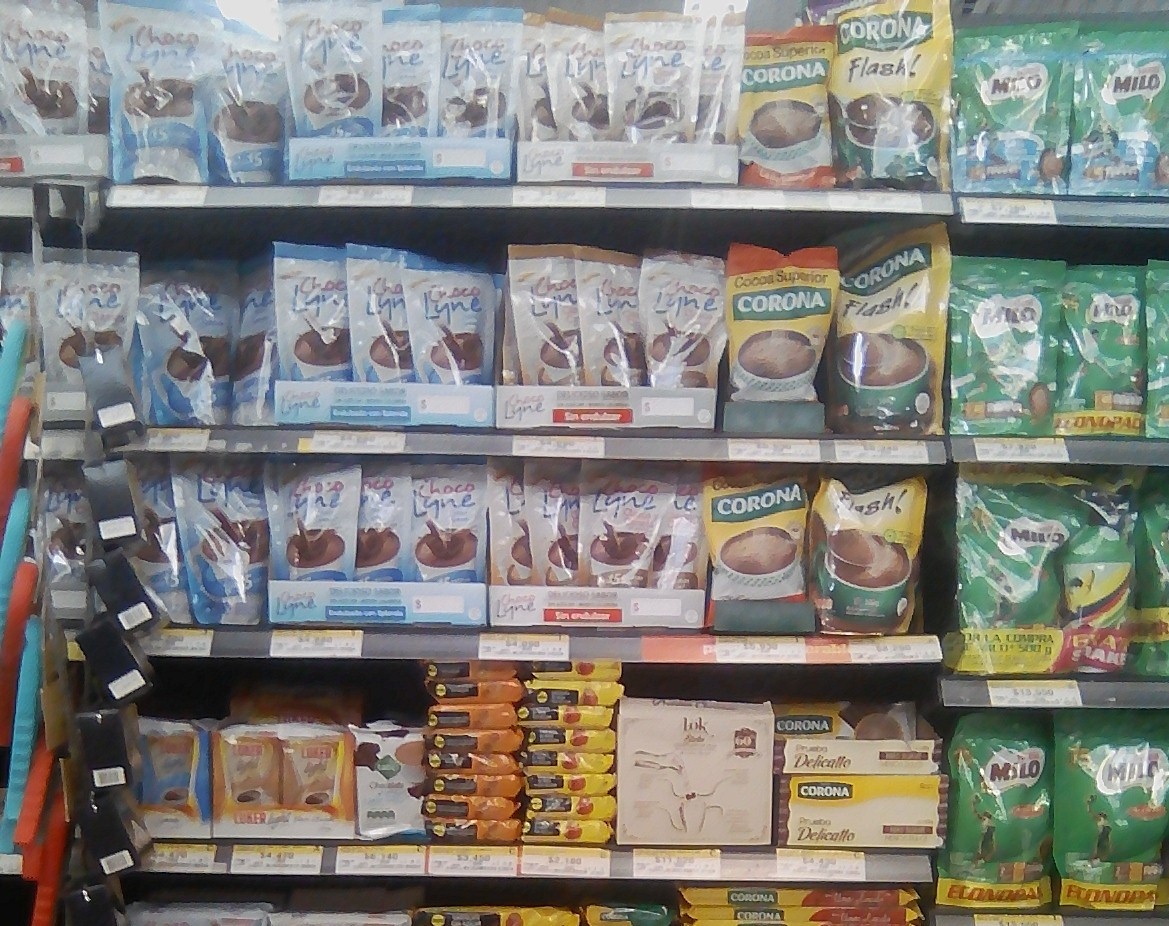COL0170203DYP25000: (948, 252, 1065, 437)
COL0170203DYP50000: (949, 468, 1067, 631)
COL0170205DYP20000: (956, 30, 1074, 193)
